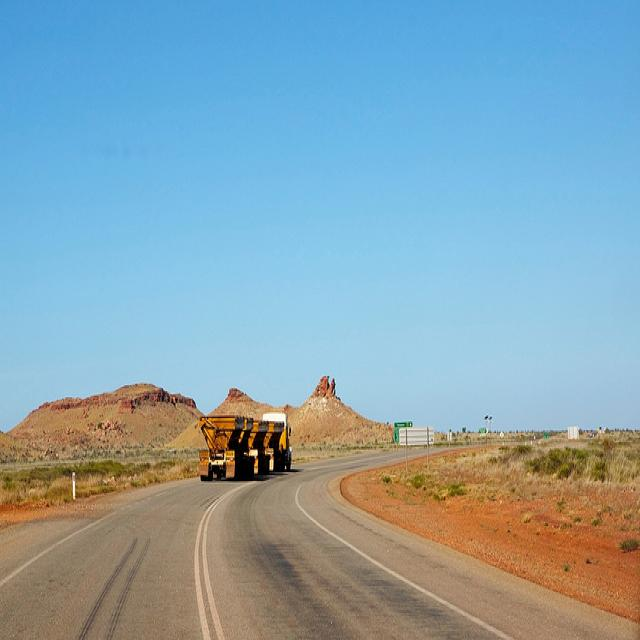Vehicle: (198, 412, 294, 482)
